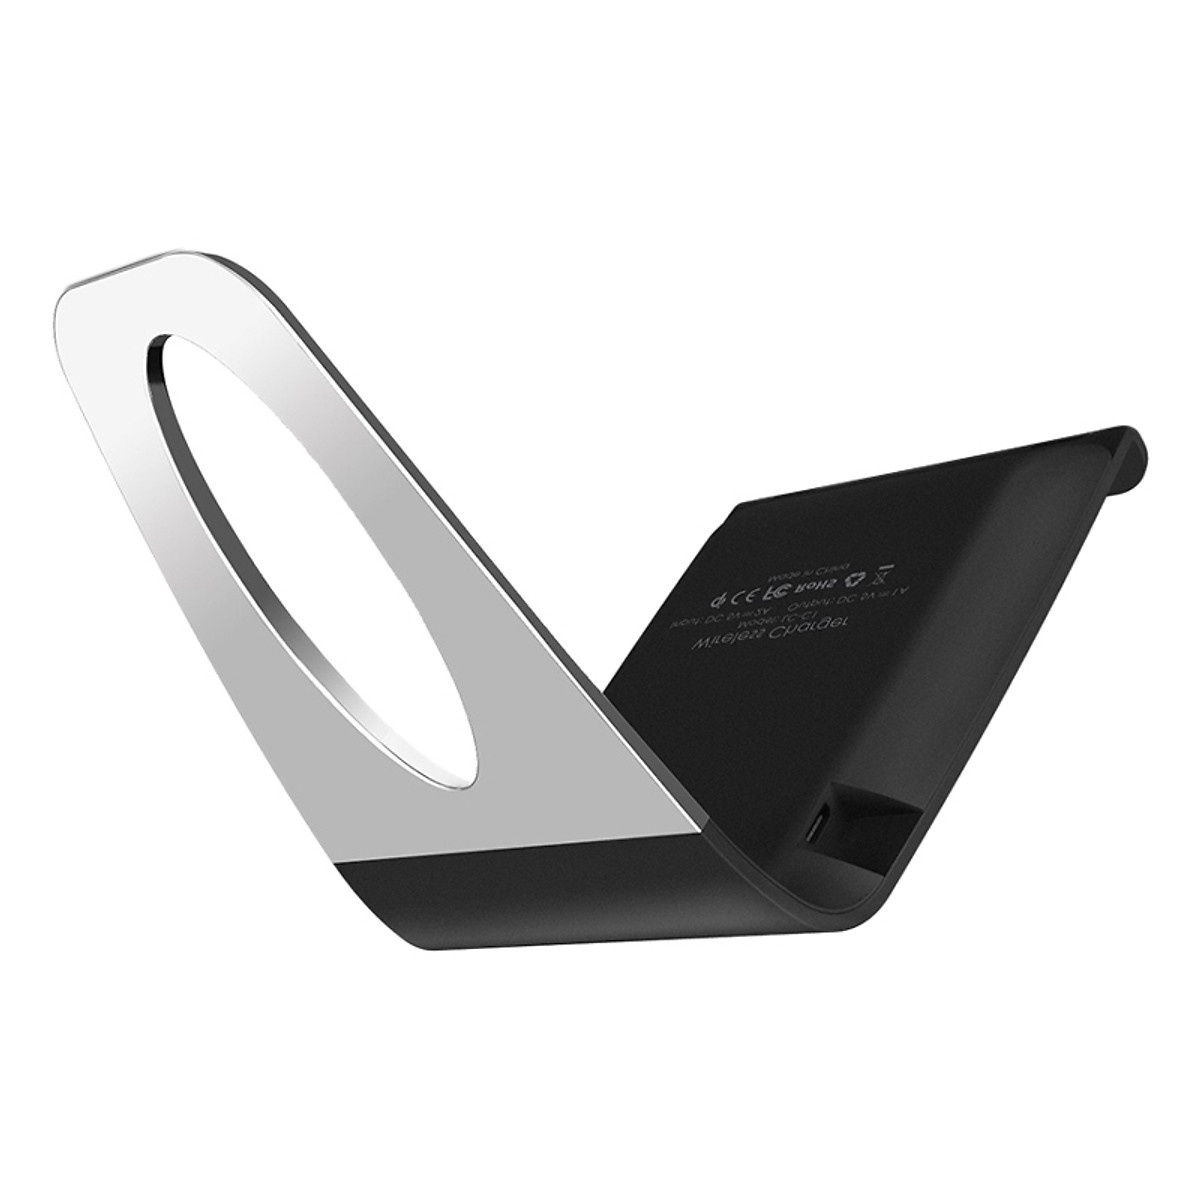Aukey: (641, 465, 1011, 695)
